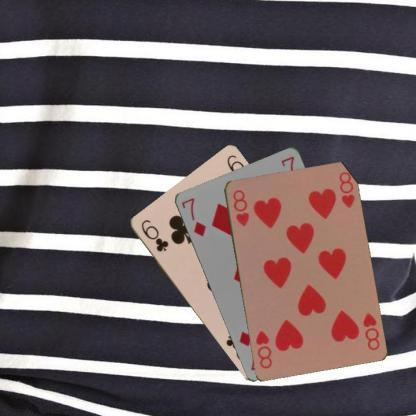6c: (138, 216, 170, 254)
7d: (178, 194, 208, 238)
8h: (360, 310, 381, 352), (230, 186, 250, 228)
